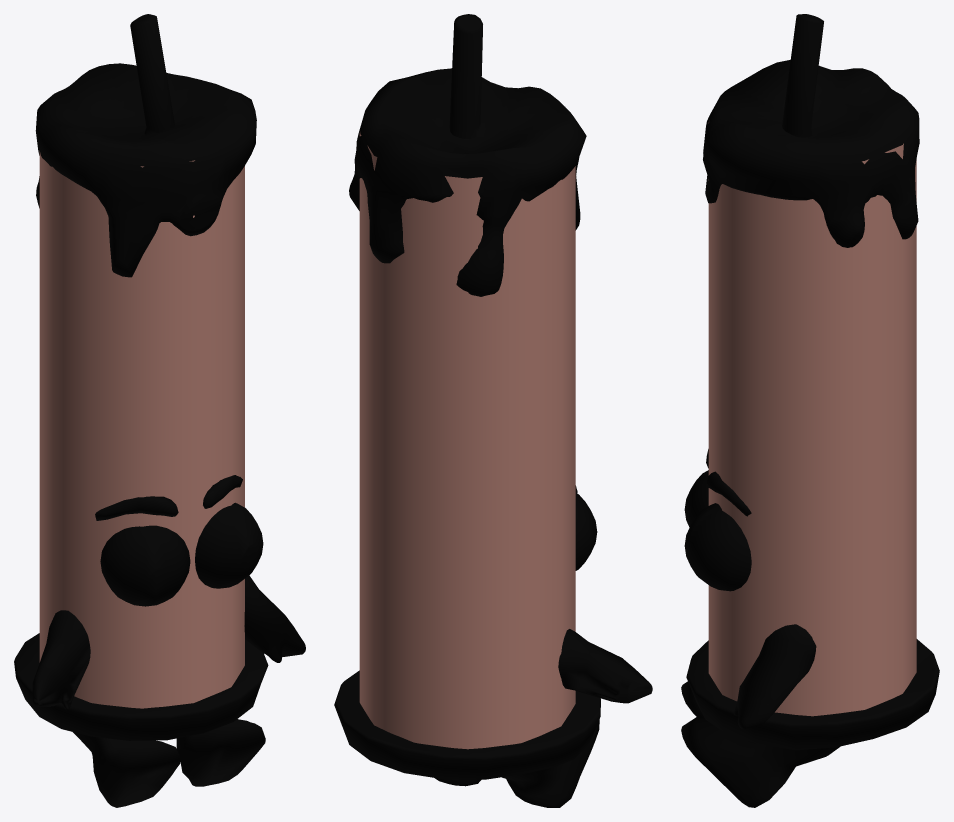
Rendered from Waxy.fbx.
The picture shows the model from 3 angles, left to right: view 1: azimuth 30°, elevation 25°; view 2: azimuth 150°, elevation 25°; view 3: azimuth 270°, elevation 25°; orthographic projection. The views are drawn at different scales.
Parts seen in each view (by area): view 1: BodyWaxy.001; view 2: BodyWaxy.001; view 3: BodyWaxy.001.
Part boxes in pixels (x1,y1,x2,y2): BodyWaxy.001: (14,14,305,807); BodyWaxy.001: (334,14,652,807); BodyWaxy.001: (681,14,939,807).
Bounding box in the file's own units: 1.54 × 4.09 × 1.25.
